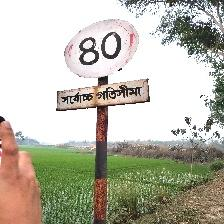Speed-limit: (58, 17, 147, 112)
